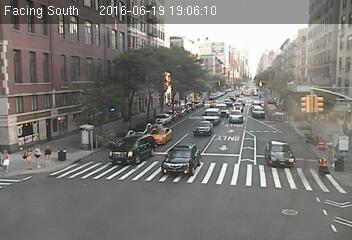neg: (313, 154, 332, 179), (301, 120, 317, 142), (275, 94, 289, 112)
pos: (19, 144, 35, 165), (40, 142, 54, 161), (30, 144, 44, 161)
